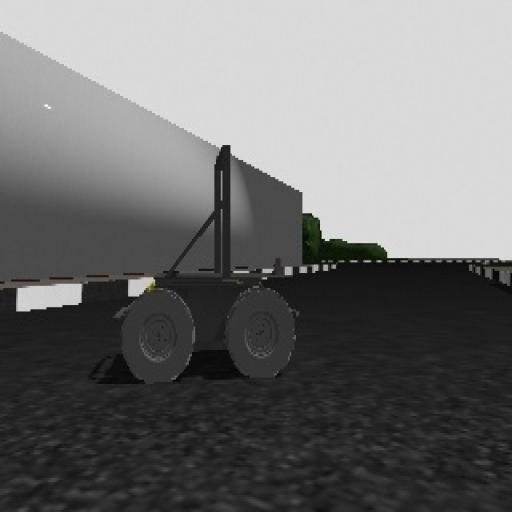huskya200: (90, 135, 309, 416)
